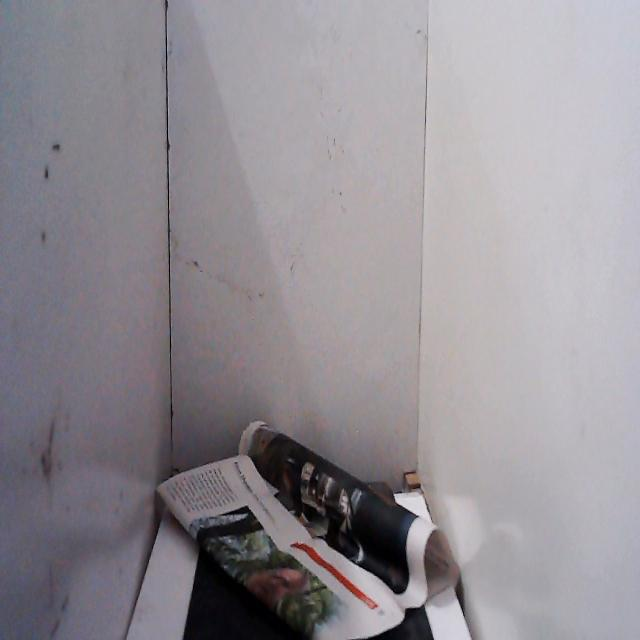papel: (154, 411, 463, 640)
